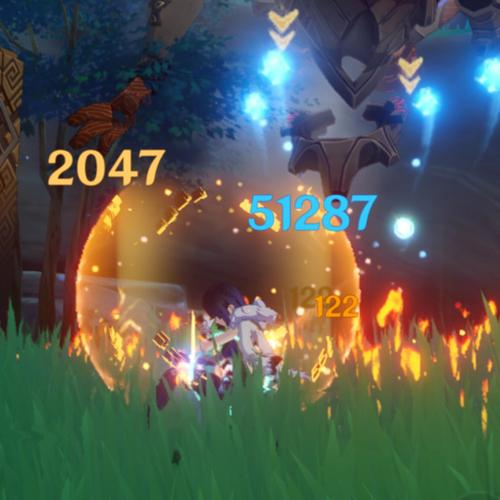夜兰: (135, 288, 285, 406)
